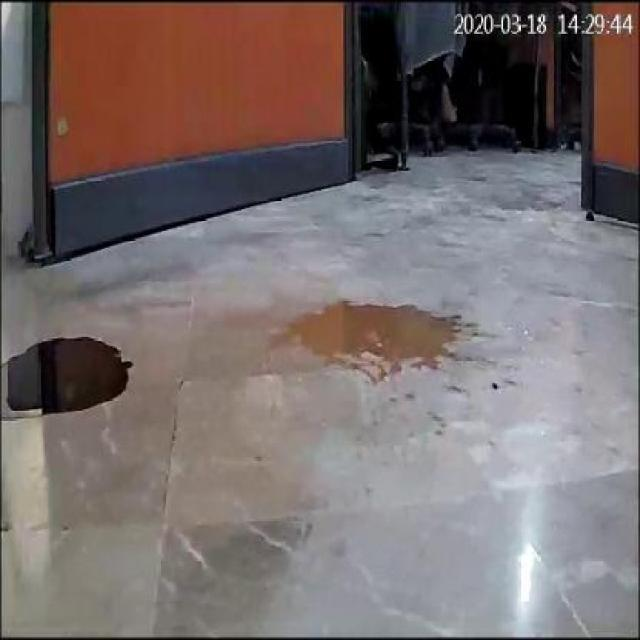spill: (278, 282, 462, 382), (0, 334, 134, 422)
